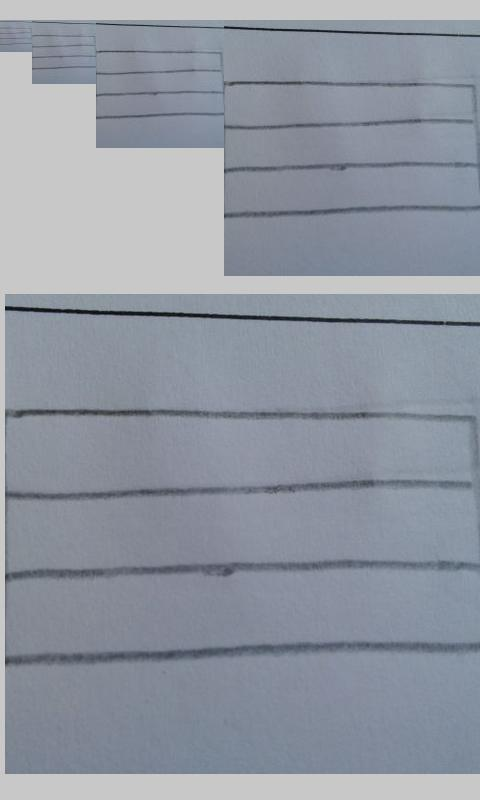list_view: (7, 406, 479, 666), (225, 80, 480, 218), (97, 48, 225, 121), (32, 34, 96, 70), (1, 27, 33, 46)
